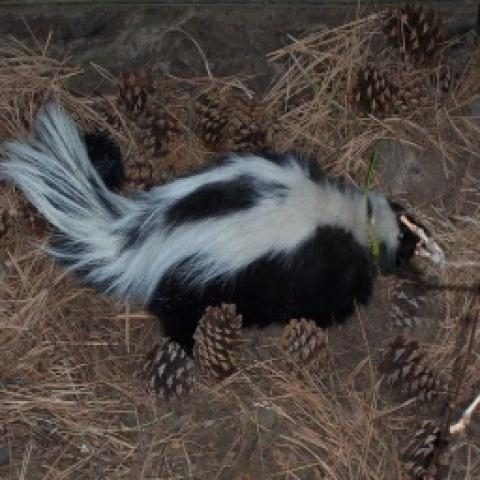small_animal: (0, 96, 448, 403)
